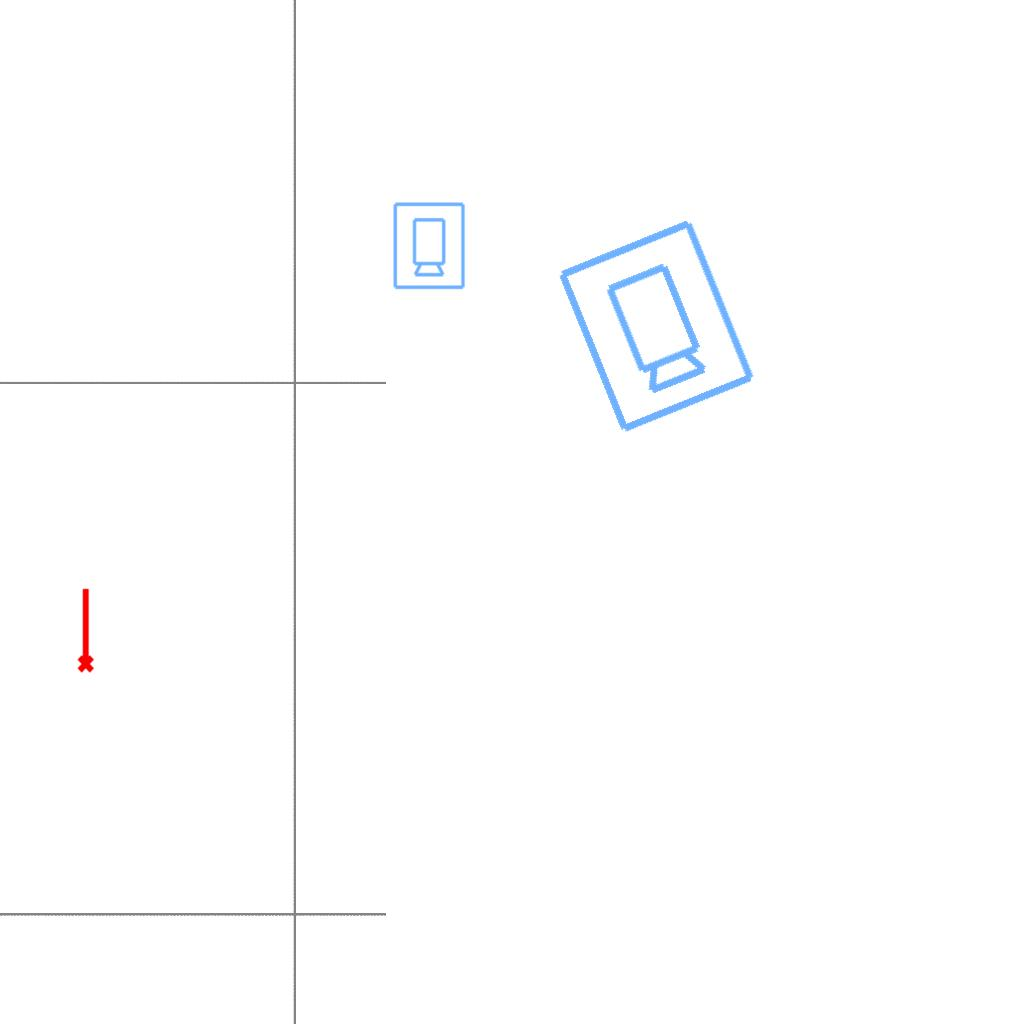ASR_Ansaugoeffnung: (73, 586, 96, 674)
KFO_Kamera_mit_Festobjektiv: (549, 212, 761, 440), (390, 200, 467, 291)
